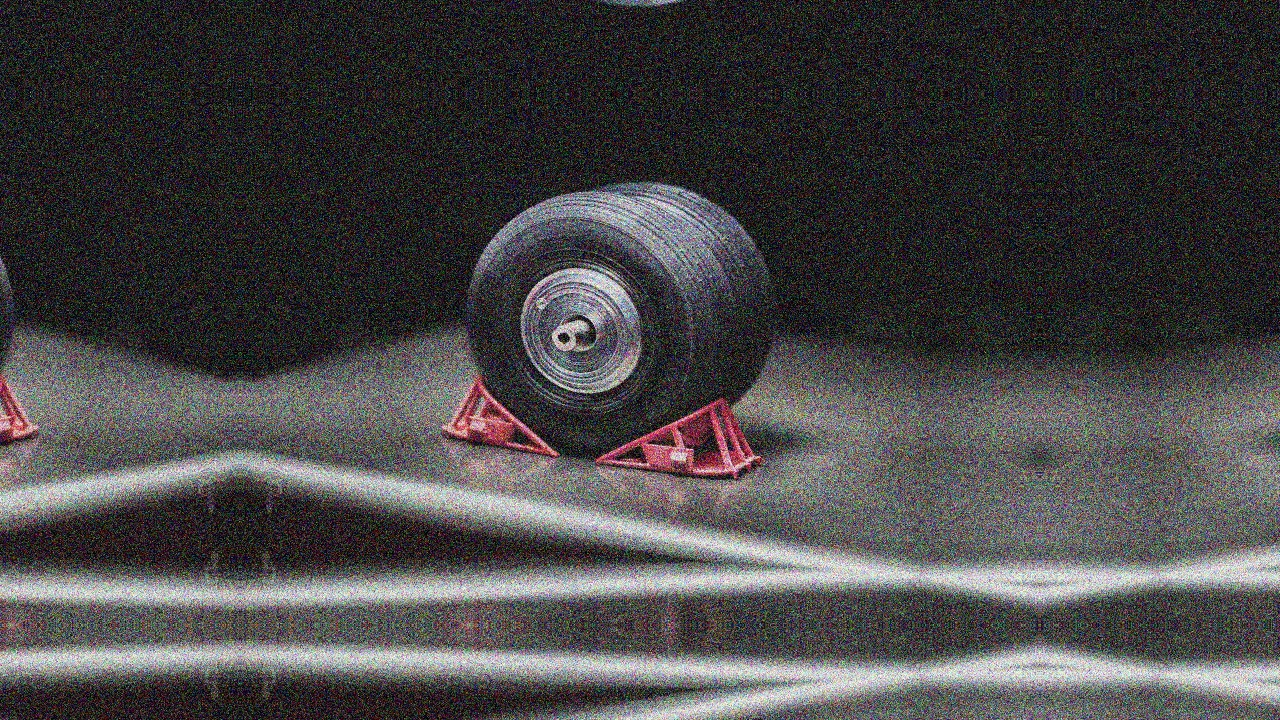chock: (594, 389, 765, 482), (439, 371, 568, 459), (0, 371, 41, 459)
wheel: (456, 182, 748, 471), (544, 176, 784, 449)
